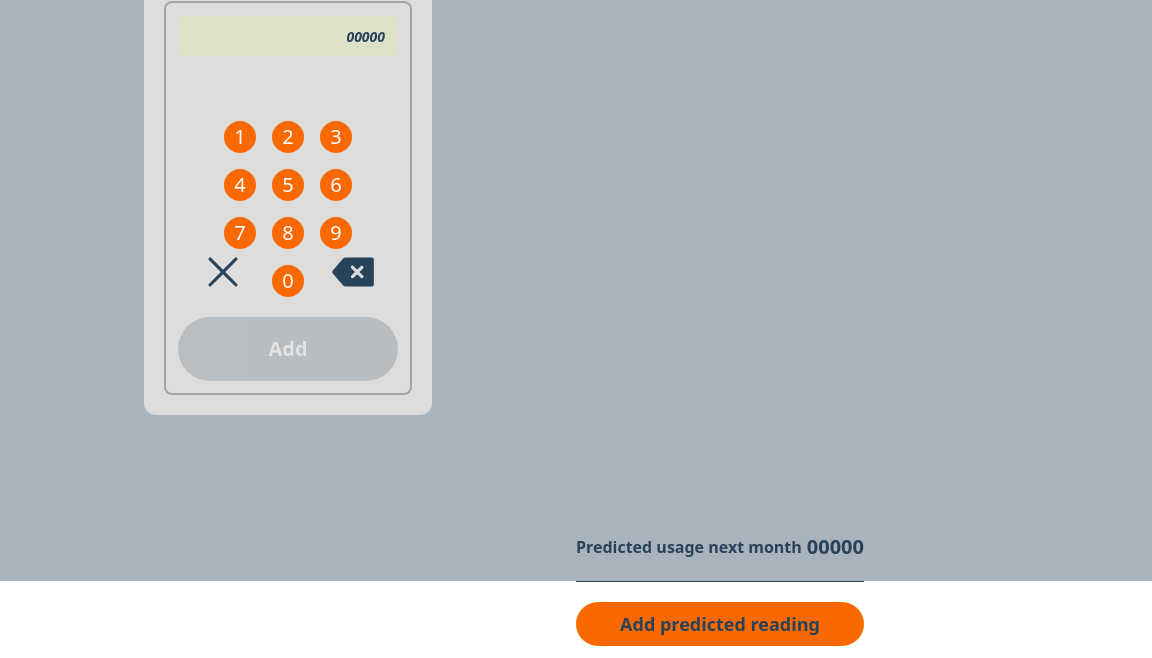
Test: App › should open WarningModal modal
(page scrolled)
Click the button "Add predicted reading": (720, 624) [576,602,864,646]
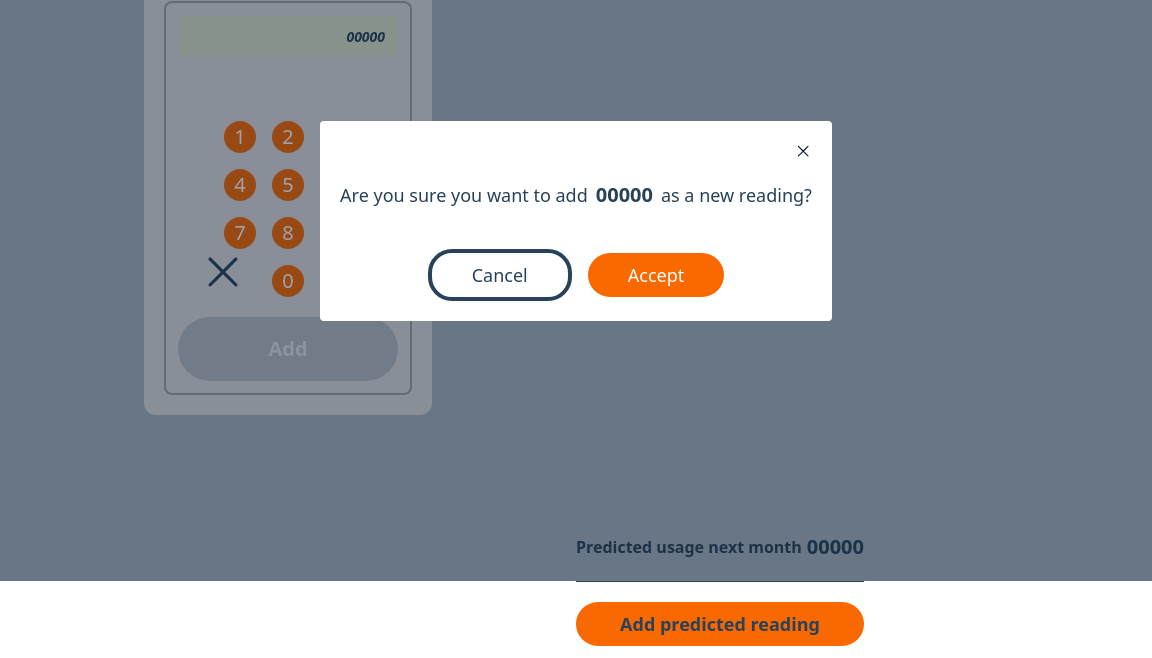
Expected: the text "Are you sure you want to add" is shown, [340,183,588,207]
Expected: the button "Cancel" is shown, [428,249,572,301]
Expected: the button "Accept" is shown, [588,253,724,297]
